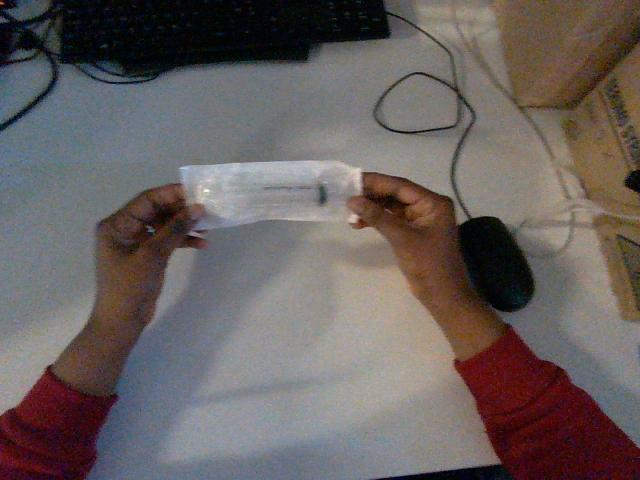syringe: (180, 161, 361, 228)
